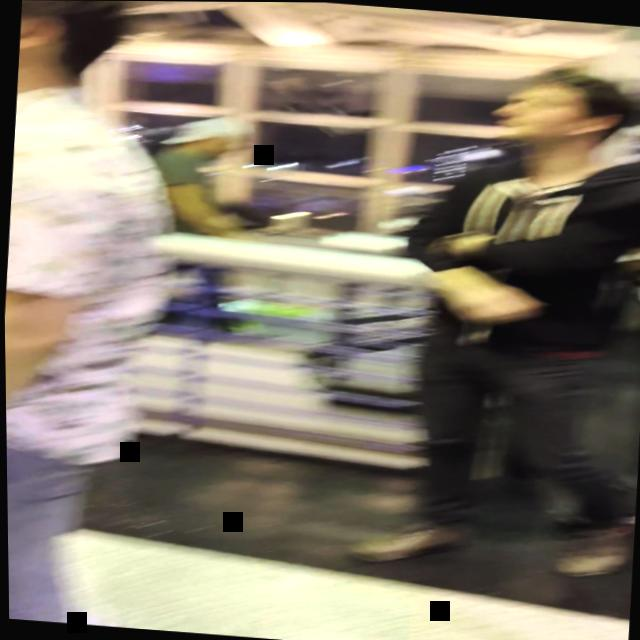NO-Mask: (492, 77, 576, 141), (203, 129, 235, 160)
